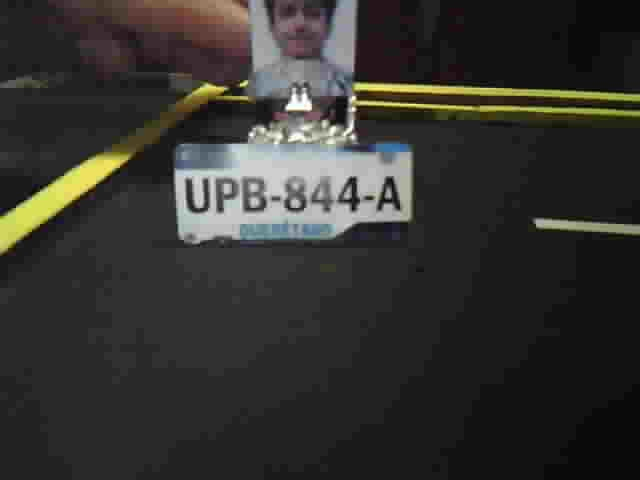PLACA: (170, 140, 417, 245)
ROSTRO: (252, 2, 352, 95)
